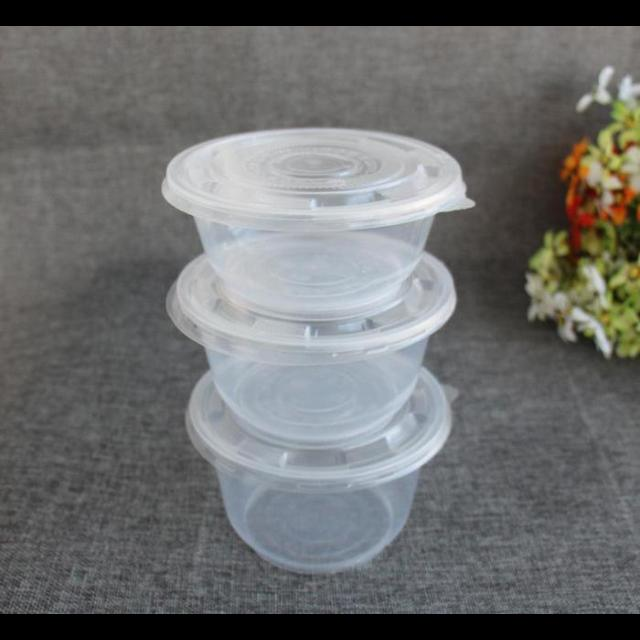plastic_box: (160, 126, 474, 322), (163, 232, 454, 440), (184, 370, 456, 572)
